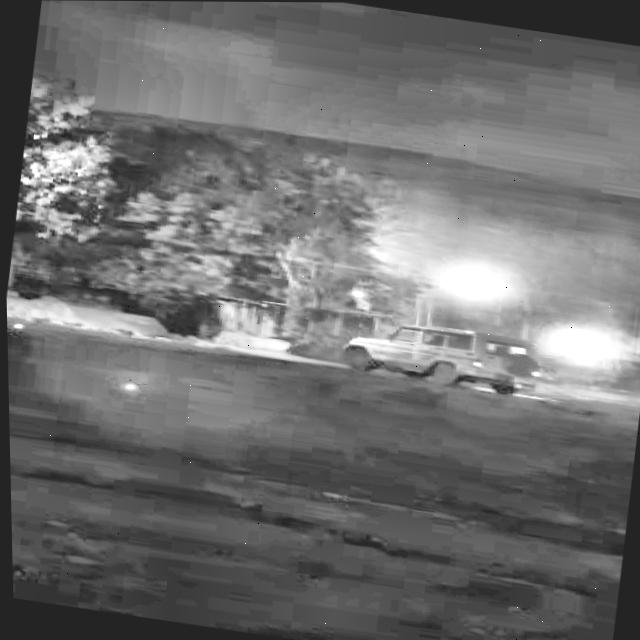light_vehicle: (340, 312, 548, 399)
